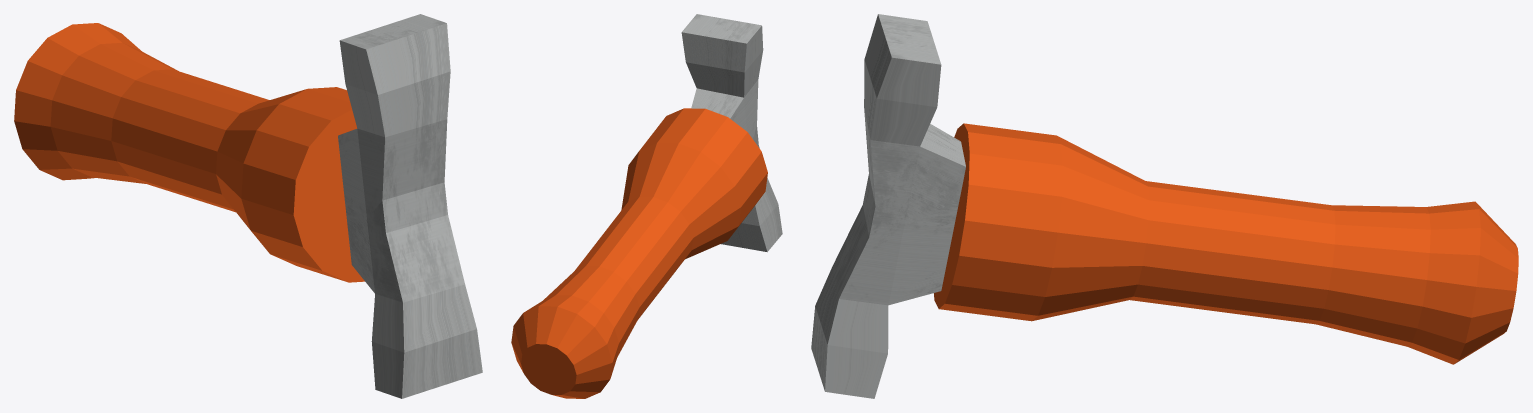
Rendered from molotok.fbx.
3 renders of one model, left to right at view 1: azimuth 30°, elevation 25°; view 2: azimuth 150°, elevation 25°; view 3: azimuth 270°, elevation 25°, orthographic. The views are drawn at different scales.
Parts seen in each view (by area): view 1: Circle.013; view 2: Circle.013; view 3: Circle.013.
Part boxes in pixels (x1=…): Circle.013: x1=14, y1=14, x2=482, y2=398; Circle.013: x1=511, y1=14, x2=782, y2=398; Circle.013: x1=811, y1=14, x2=1518, y2=398.
Size of the model in its own units: 0.1449 by 0.2492 by 0.4677.
